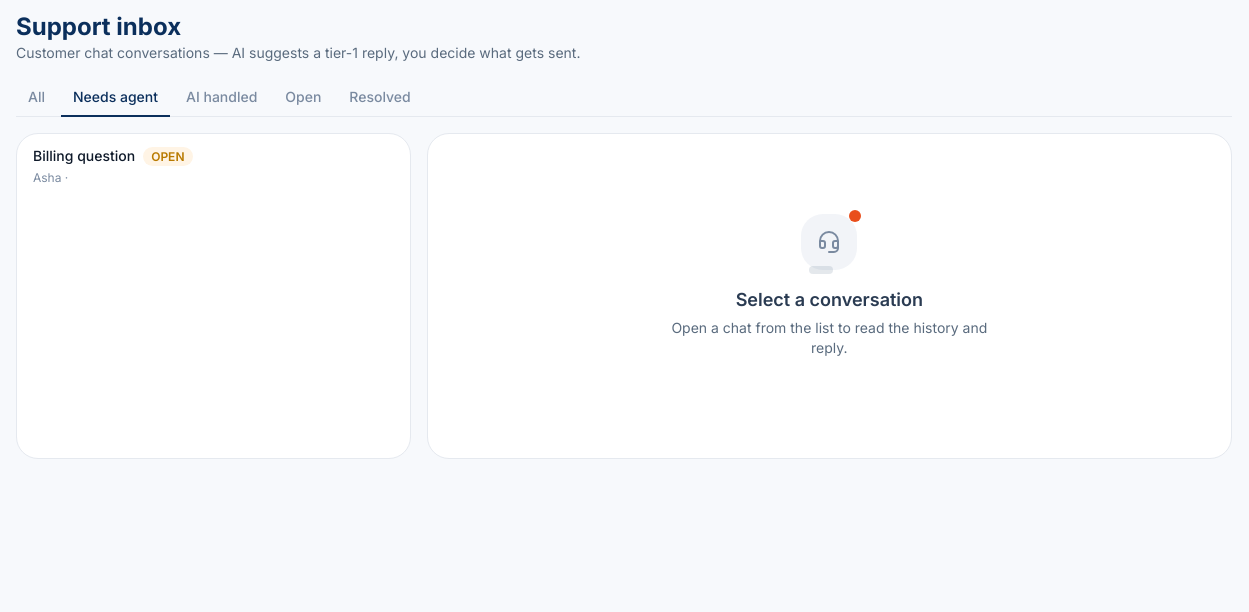
it: SupportInboxView › shows the AI suggestion as unsent, outside the transcript
Click the text "Billing question": (84, 156) [33,146,135,166]
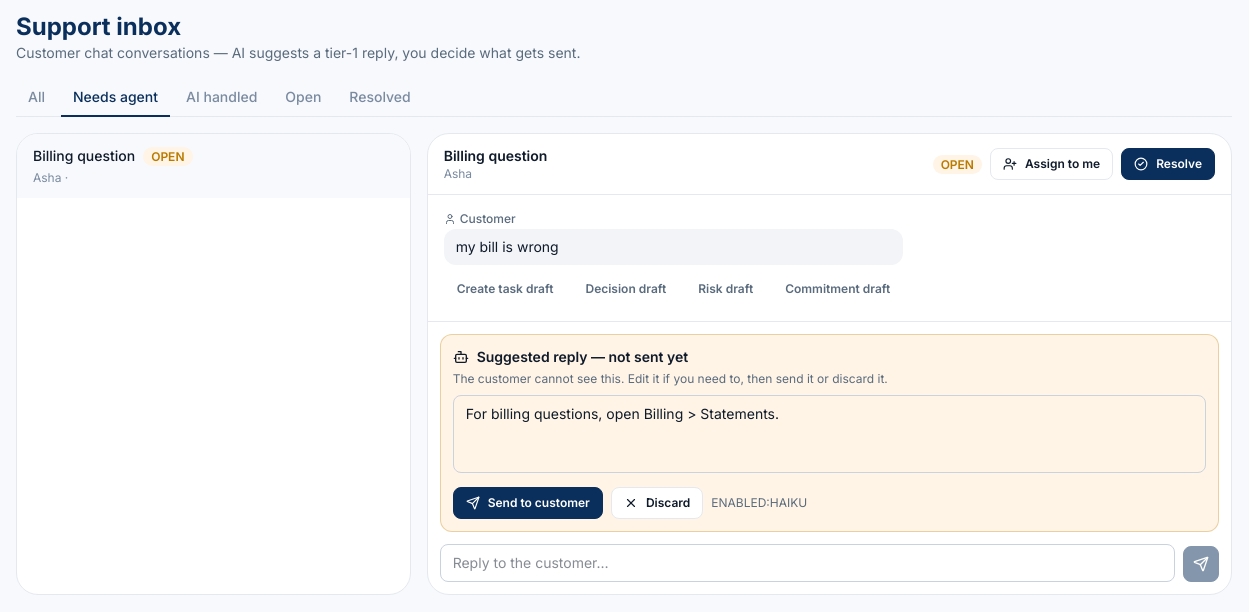
expect the text "Suggested reply — not sent yet" is shown: met, box [453,348,688,365]
expect the text "The customer cannot see this" is shown: met, box [453,371,888,386]
expect the text box named "Suggested reply to the customer" holds "For billing questions, open Billing > Statements.": met, box [453,395,1206,473]
